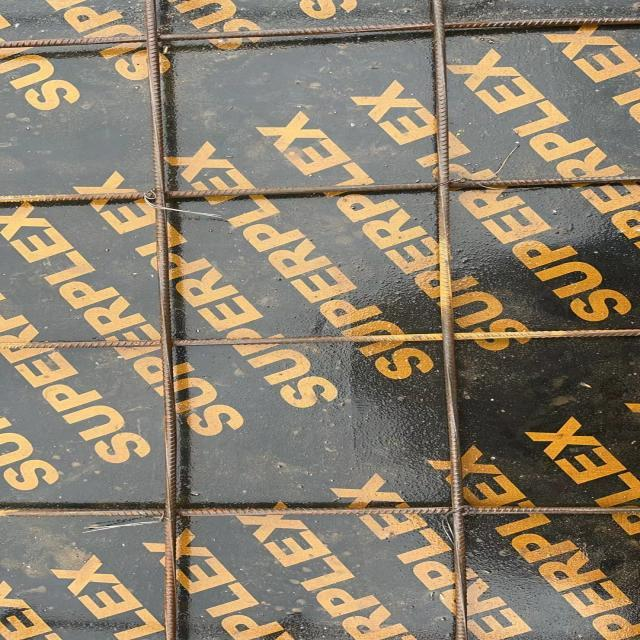ribbed bar: (428, 0, 467, 639), (143, 0, 179, 639), (0, 16, 639, 49), (0, 173, 639, 205), (0, 327, 639, 350), (0, 506, 639, 518)
